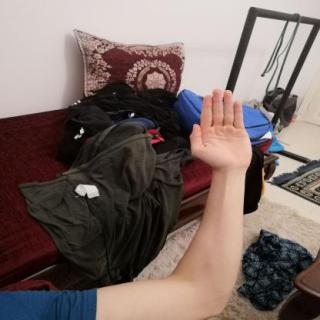SEEN: (184, 85, 258, 174)
